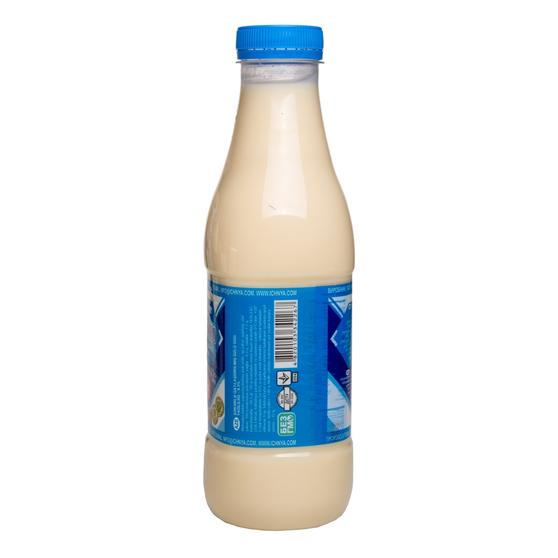milk: (199, 26, 360, 533)
